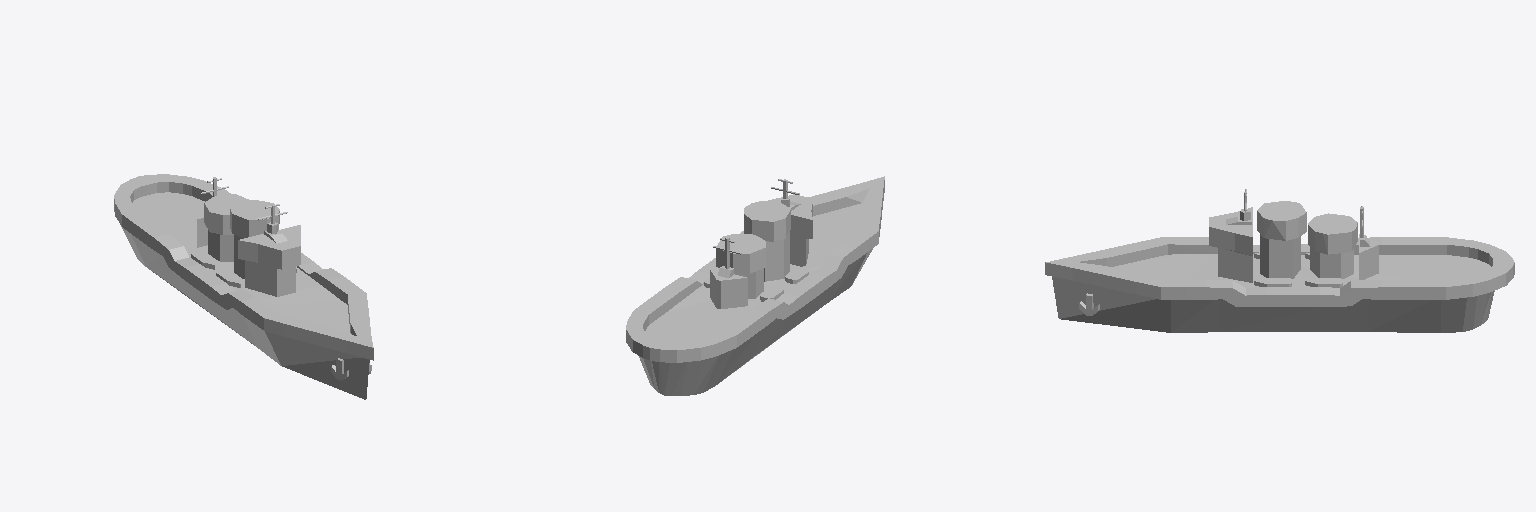
The model's file is ship_1c.obj.
3 views of the same model, side by side, from view 1: azimuth 30°, elevation 25°; view 2: azimuth 150°, elevation 25°; view 3: azimuth 270°, elevation 25° (orthographic).
Visible parts, largest first — view 1: Cylinder.007; view 2: Cylinder.007; view 3: Cylinder.007.
Boxes of the visible parts, x1,y1,x2,y2 form: Cylinder.007: [114, 174, 373, 399]; Cylinder.007: [626, 176, 884, 395]; Cylinder.007: [1045, 189, 1514, 332].
Bounding box in the file's own units: 1.08 × 1.27 × 4.26.